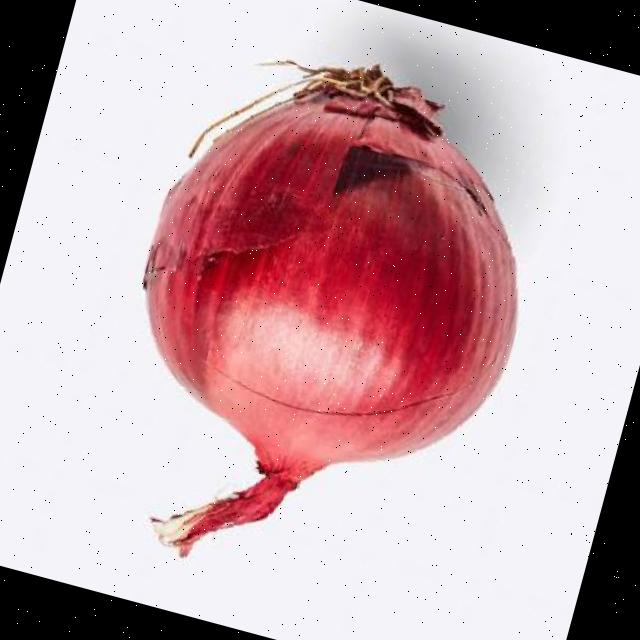Onion: (141, 59, 514, 554)
